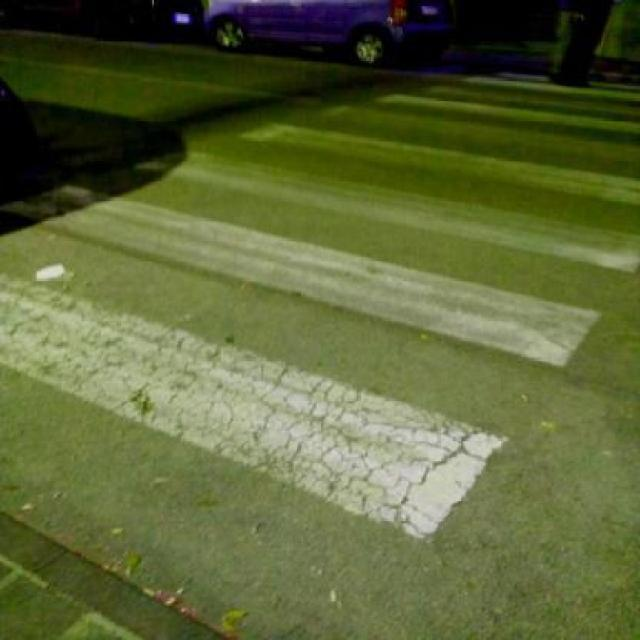crosswalk: (2, 75, 640, 540)
